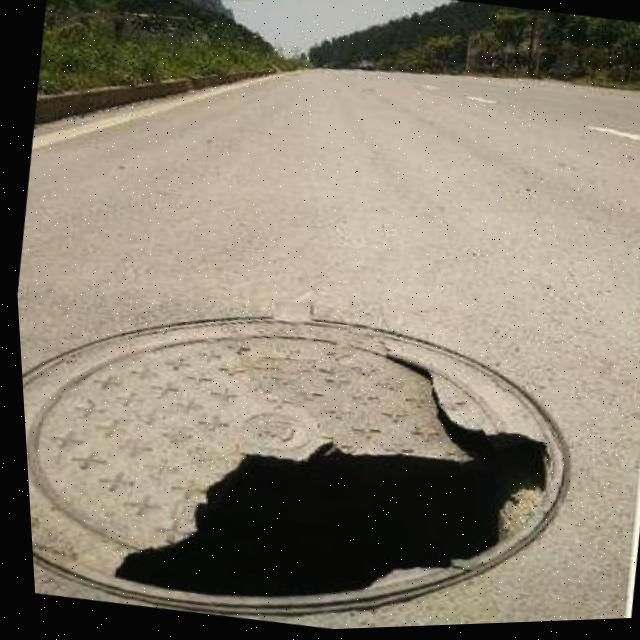manhole: (13, 256, 590, 640)
